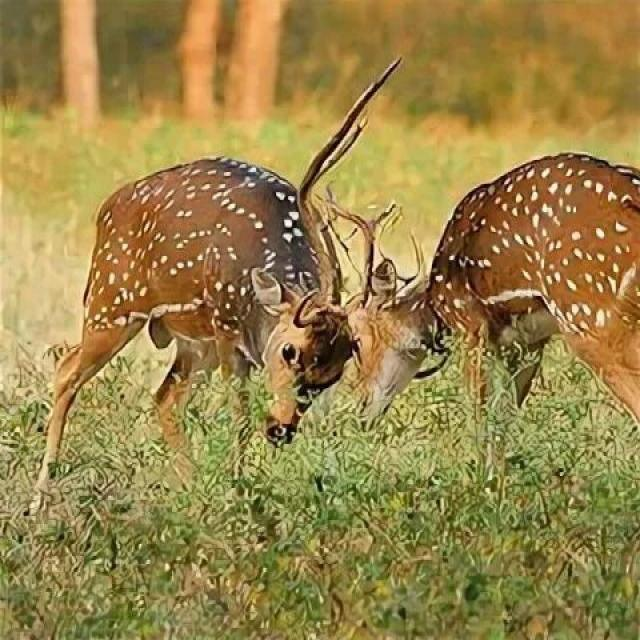deer: (81, 123, 397, 521), (325, 112, 640, 475)
